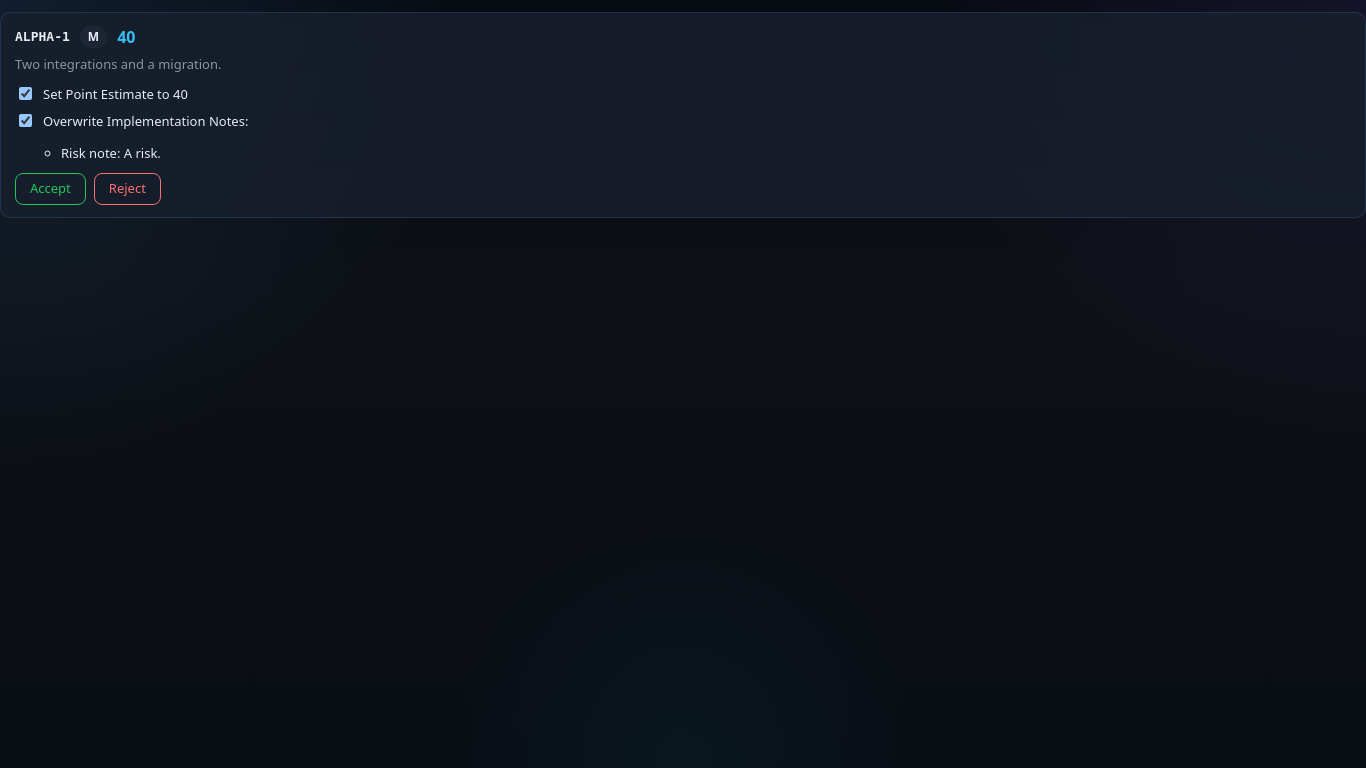
Test: PiReviewSuggestionTable › disables Accept when the user unticks every offered field
Click the checkbox named "apply point estimate for alpha-1". click: coordinates (26, 93)
box: x1=19 y1=86 x2=32 y2=100
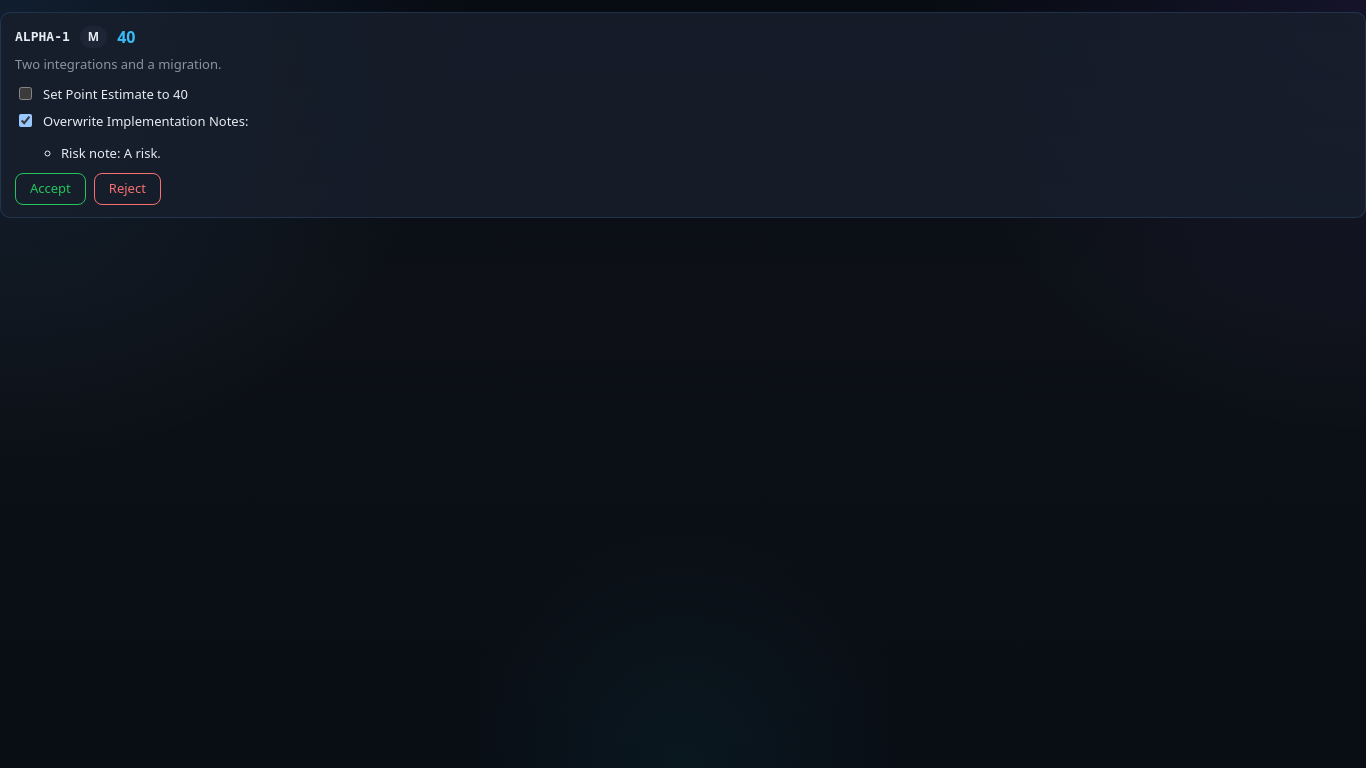
Click the checkbox named "overwrite implementation notes for alpha-1". click: coordinates (26, 120)
box: x1=19 y1=114 x2=32 y2=127
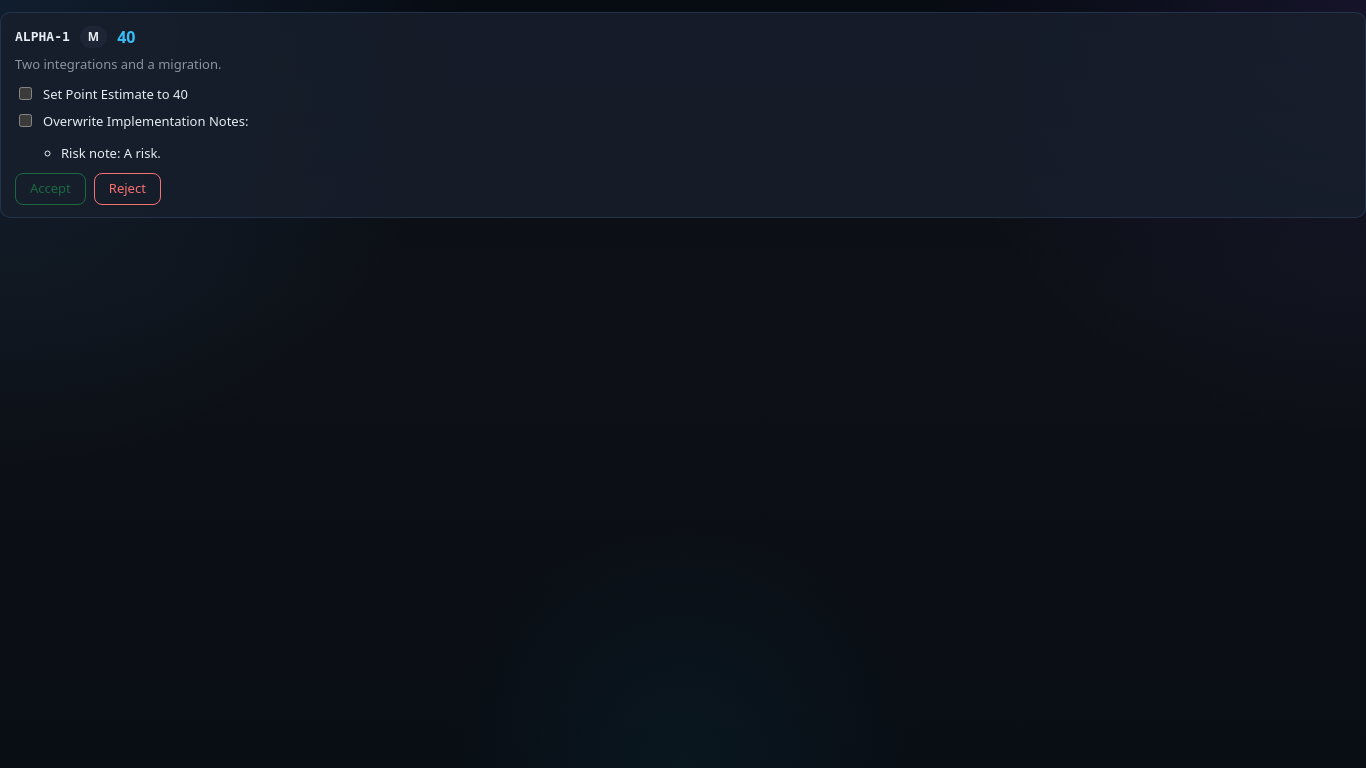
expect the button "Accept" is disabled: met, box x1=15 y1=173 x2=86 y2=204
